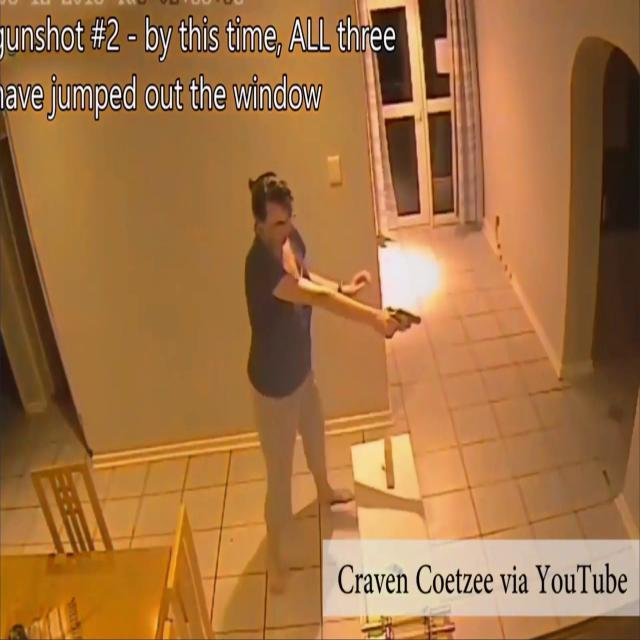gun: (383, 306, 422, 339)
